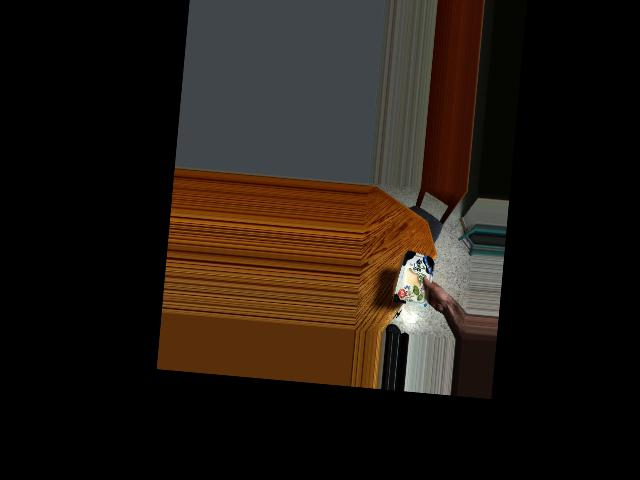cheese: (394, 253, 442, 300)
